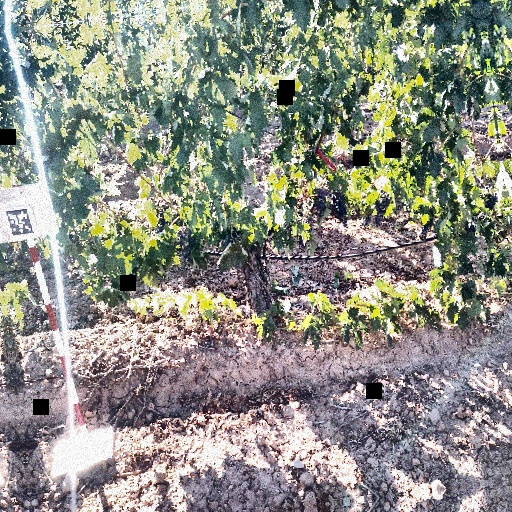QR: (5, 208, 35, 240)
